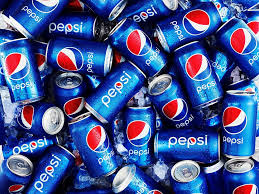Pepsi: (114, 13, 167, 66), (89, 64, 140, 116), (212, 98, 259, 154), (1, 44, 47, 100), (173, 47, 219, 103), (72, 119, 118, 175), (123, 110, 169, 166), (32, 137, 72, 194), (214, 21, 259, 71), (50, 40, 104, 70)
